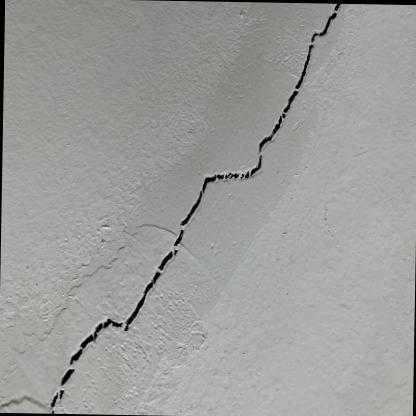crack: (294, 2, 340, 88), (68, 318, 121, 365), (122, 270, 159, 330), (258, 114, 281, 151), (178, 188, 200, 224), (201, 172, 222, 193), (282, 88, 296, 112), (156, 249, 171, 269), (249, 154, 261, 175), (59, 368, 73, 384), (172, 228, 182, 245), (49, 392, 56, 413), (223, 171, 238, 177), (243, 169, 248, 177), (58, 389, 62, 398), (238, 172, 243, 178), (172, 248, 176, 254), (281, 112, 284, 117)
